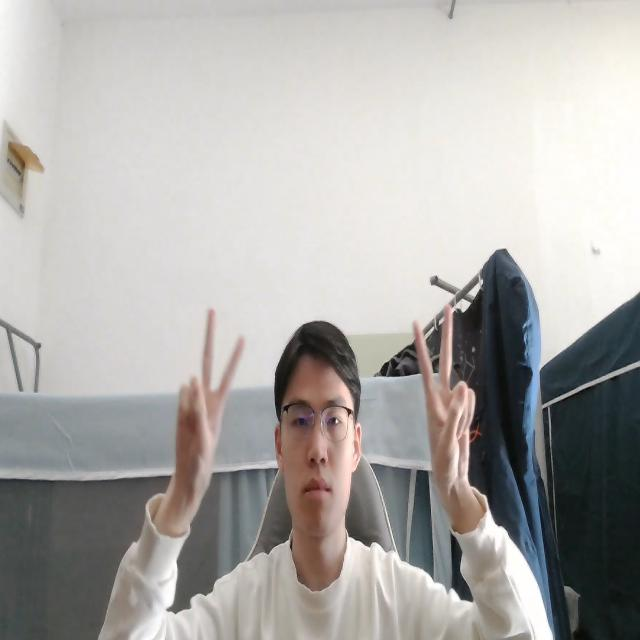yes: (140, 298, 252, 542), (410, 296, 478, 508)
